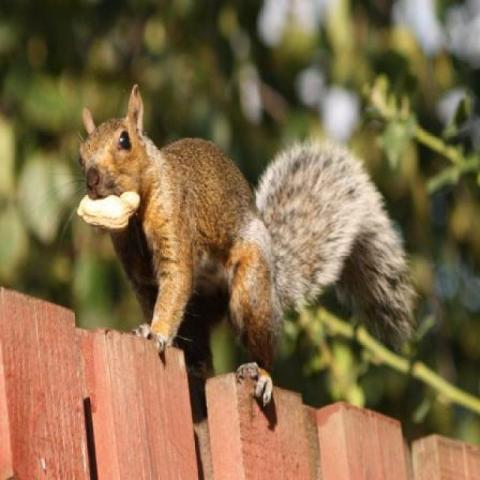small_animal: (72, 82, 419, 410)
